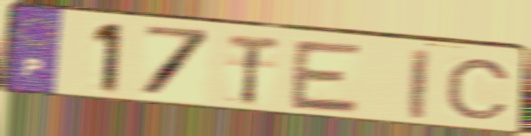1: (89, 22, 128, 98)
7: (141, 23, 214, 102)
C: (443, 56, 514, 122)
E: (287, 37, 366, 116)
I: (408, 46, 432, 122)
T: (225, 31, 283, 107)
